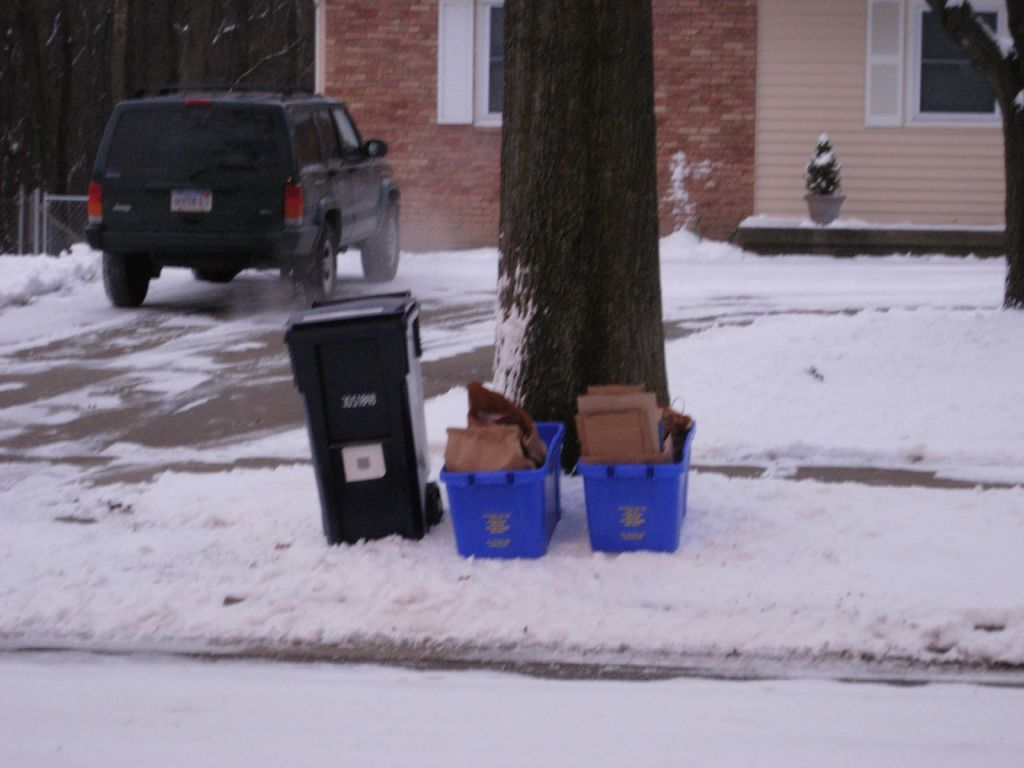Car: (81, 87, 398, 302)
